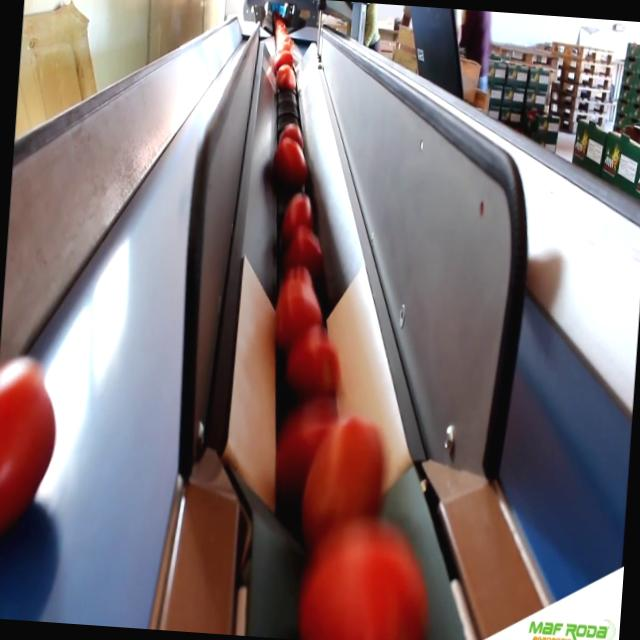Tomato: (310, 515, 432, 640), (0, 354, 58, 521), (306, 419, 388, 526), (275, 406, 330, 499), (287, 327, 347, 404), (272, 288, 326, 348), (272, 135, 310, 189), (284, 226, 328, 272), (284, 192, 312, 233), (272, 64, 301, 98), (282, 120, 306, 149), (272, 50, 296, 77)
